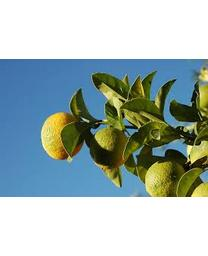lemon: (91, 128, 131, 180), (41, 113, 82, 159), (144, 159, 188, 196)
